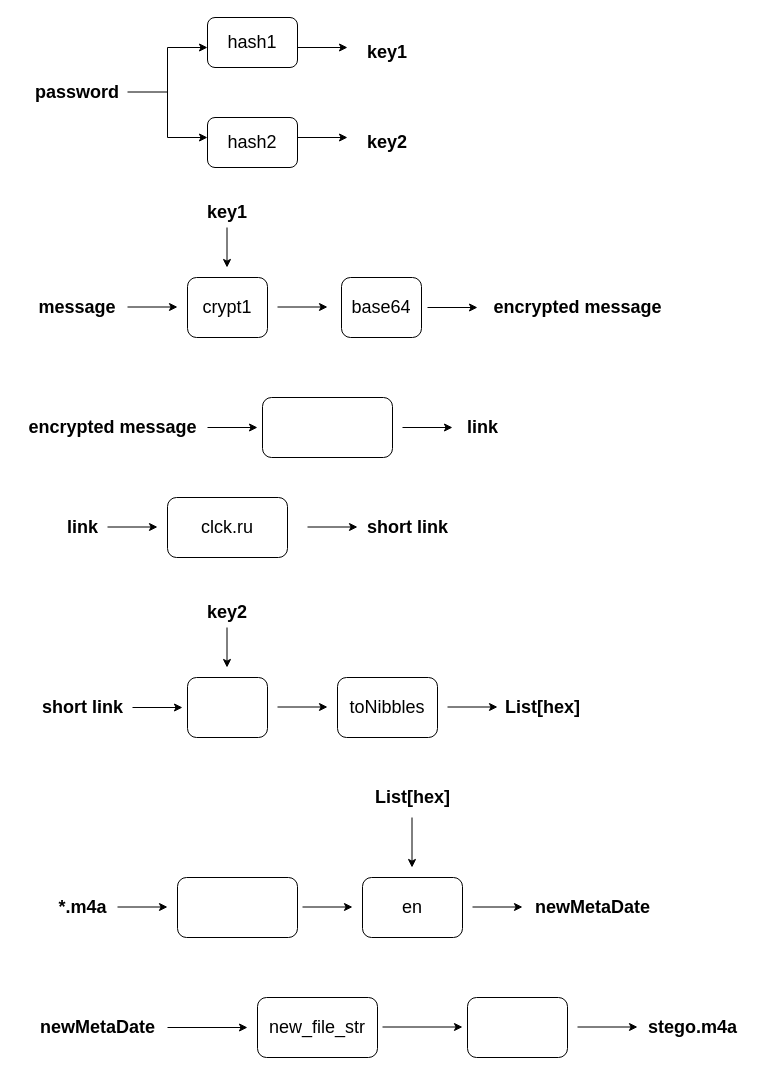
Image size: 764x1075. Some labels were removed from this diagram. Here are the shapes that lost their labels. From the top down, the box of each, then its label:
(262, 396, 392, 458): privnote.com
(186, 676, 268, 738): crypt2
(176, 876, 298, 938): read
(466, 996, 568, 1058): write
